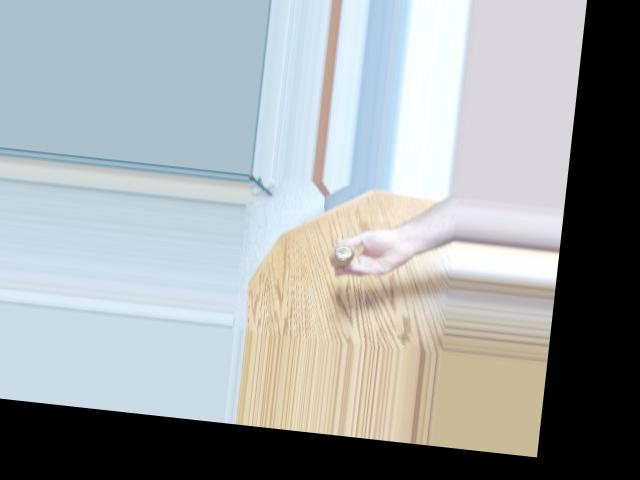sweet_potato: (324, 237, 355, 263)
